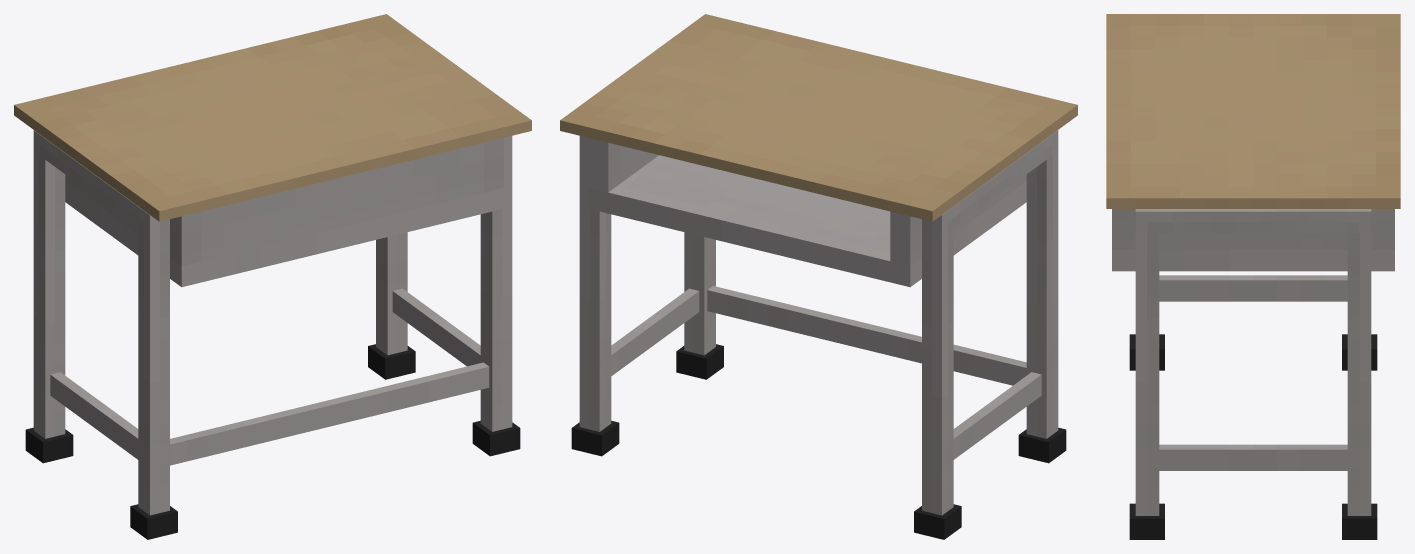
File: desk.obj
3 views of the same model, side by side, from view 1: azimuth 30°, elevation 25°; view 2: azimuth 150°, elevation 25°; view 3: azimuth 270°, elevation 25° (orthographic).
Parts seen in each view (by area): view 1: cube; view 2: cube; view 3: cube.
Part boxes in pixels (bbox=[...]): cube: bbox=[14, 14, 531, 539]; cube: bbox=[560, 14, 1077, 539]; cube: bbox=[1106, 14, 1400, 539].
Bounding box in the file's own units: 1.16 × 1 × 0.7812.
